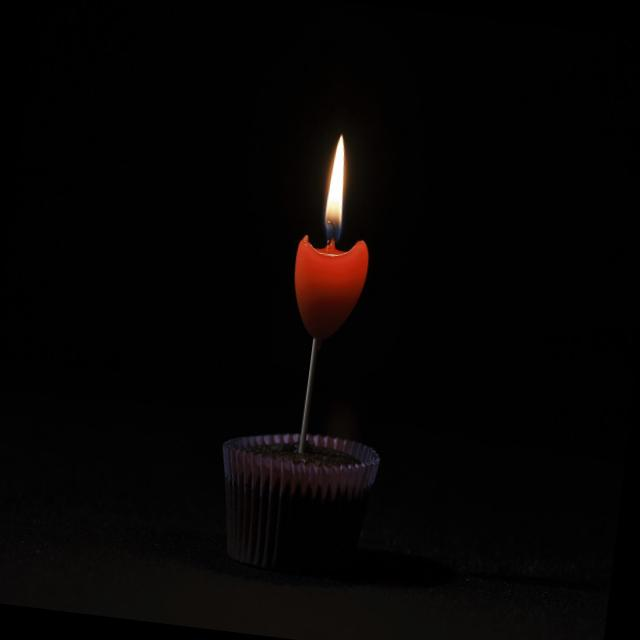Fire_Save: (207, 121, 419, 580), (284, 128, 384, 348)
